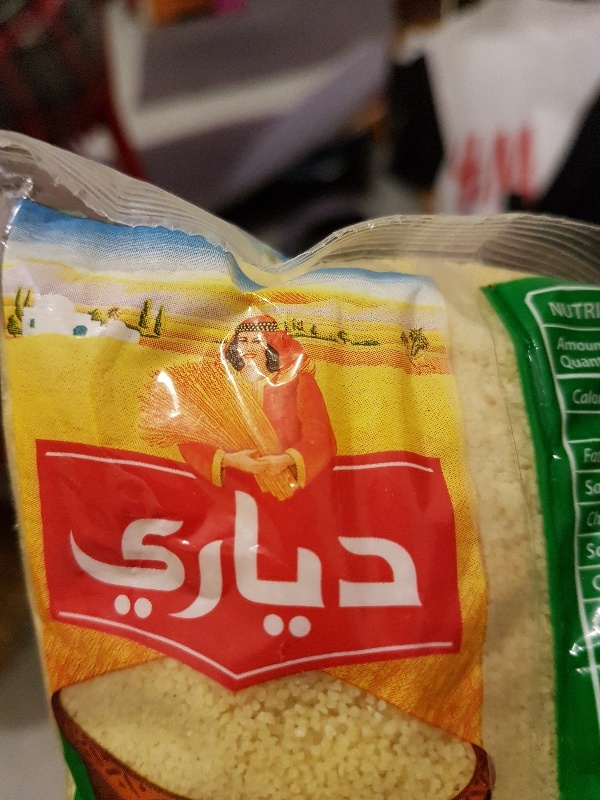text: (65, 476, 80, 642), (81, 476, 96, 642), (97, 476, 112, 642), (113, 476, 128, 642), (129, 476, 144, 642), (145, 476, 160, 642), (161, 476, 176, 642), (177, 476, 192, 642), (193, 476, 208, 642), (209, 476, 224, 642), (225, 476, 240, 642), (241, 476, 256, 642), (257, 476, 272, 642), (273, 476, 288, 642), (289, 476, 304, 642), (305, 476, 320, 642), (321, 476, 336, 642), (337, 476, 352, 642), (353, 476, 368, 642), (369, 476, 384, 642), (385, 476, 400, 642), (401, 476, 416, 642), (417, 476, 428, 642), (57, 476, 64, 642), (577, 386, 592, 408), (561, 302, 576, 321), (577, 302, 592, 321), (547, 302, 560, 321), (561, 336, 576, 352), (577, 336, 592, 352), (561, 356, 576, 371), (577, 356, 592, 371), (583, 444, 592, 466), (584, 477, 592, 498), (593, 386, 600, 408), (593, 477, 600, 498), (593, 510, 600, 530), (593, 302, 600, 321), (570, 386, 576, 408), (593, 444, 599, 466), (586, 542, 592, 563), (593, 542, 599, 563), (593, 336, 600, 352), (587, 510, 592, 530), (593, 356, 599, 371), (558, 336, 560, 352), (559, 356, 560, 371)
